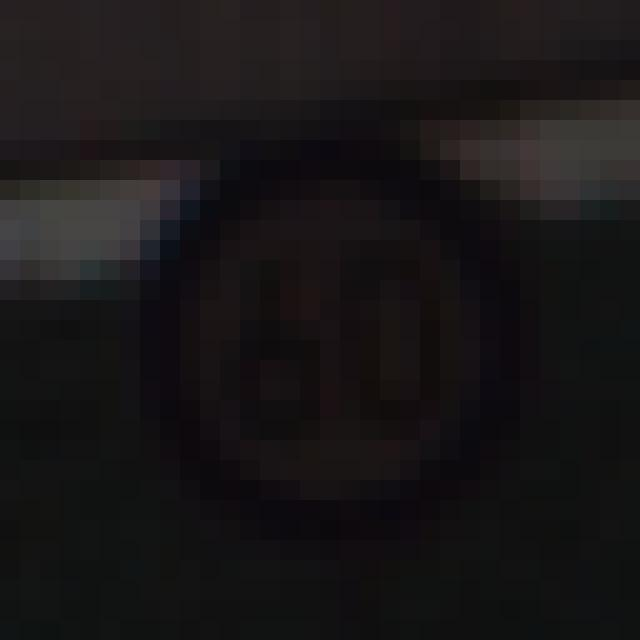SPEED-LIMIT-60: (130, 126, 515, 529)
